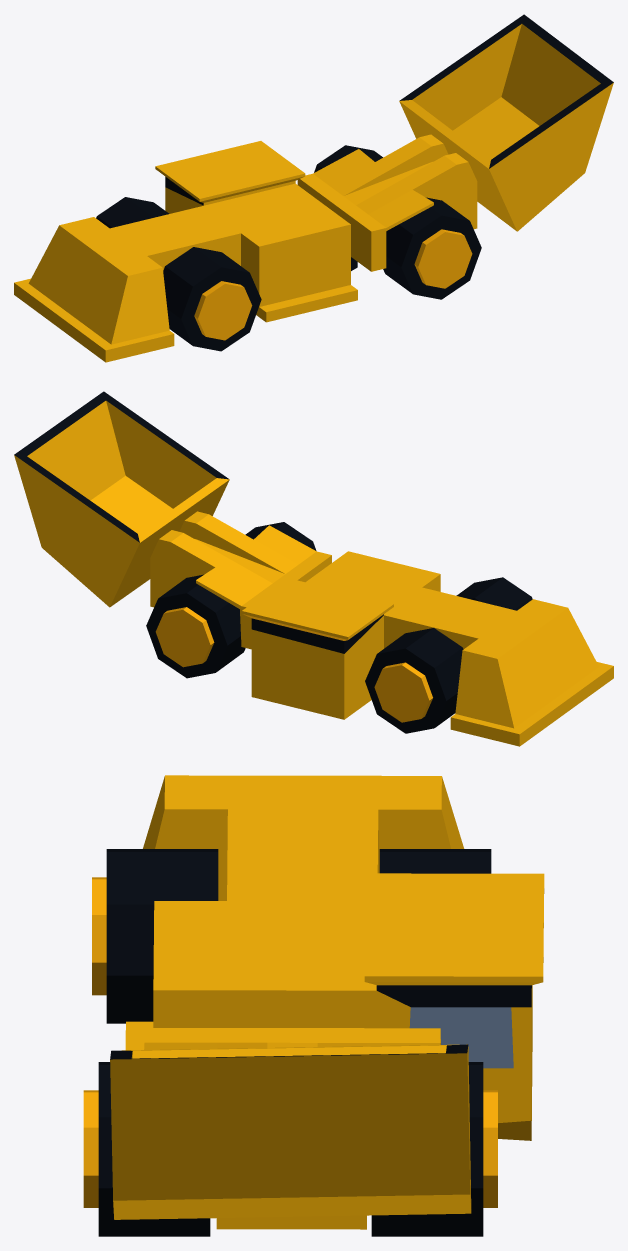
Rendered from Machine_1.fbx.
3 renders of one model, top to bottom at view 1: azimuth 30°, elevation 25°; view 2: azimuth 150°, elevation 25°; view 3: azimuth 270°, elevation 25°, orthographic. The views are drawn at different scales.
Parts seen in each view (by area): view 1: base.010, Cylinder.003, Cylinder.002; view 2: base.010, Cylinder.003, Cylinder.002; view 3: base.010, Cylinder.003, Cylinder.002.
Boxes of the visible parts, <box> form: base.010: <box>14,14,613,362</box>; Cylinder.003: <box>96,197,261,351</box>; Cylinder.002: <box>314,145,481,299</box>; base.010: <box>14,391,613,746</box>; Cylinder.003: <box>365,577,532,733</box>; Cylinder.002: <box>146,522,316,678</box>; base.010: <box>110,775,544,1229</box>; Cylinder.003: <box>92,849,491,1023</box>; Cylinder.002: <box>83,1062,497,1236</box>.
Bounding box in the file's own units: 342 × 113 × 135.
